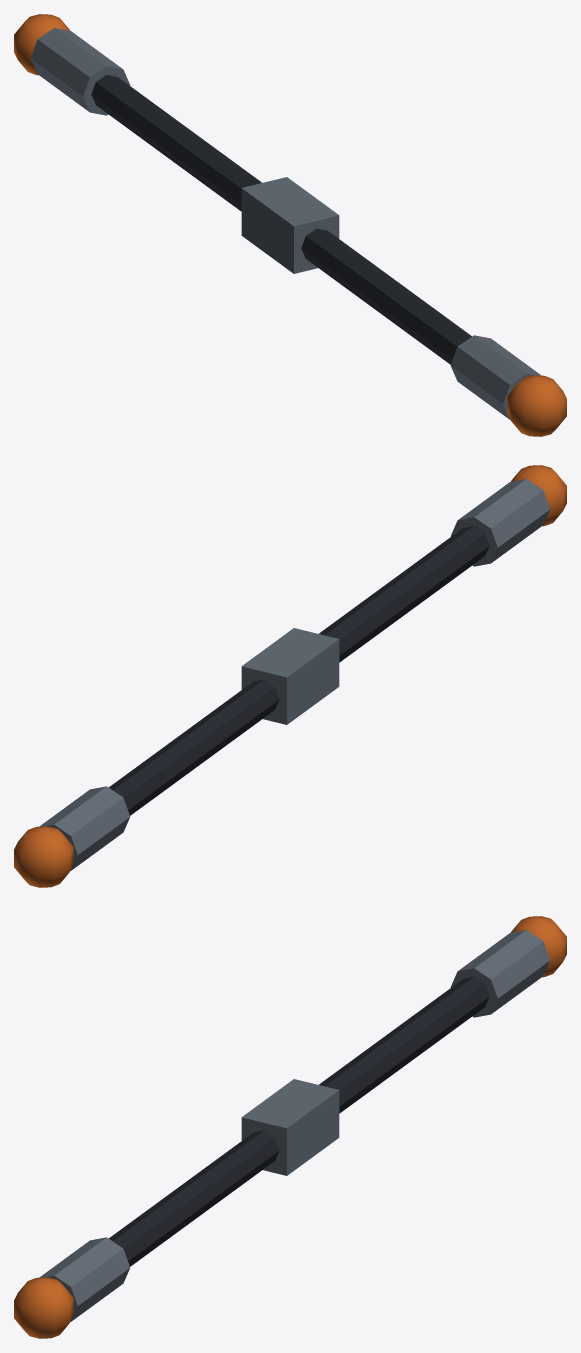
The model's file is electrostaff.glb.
The picture shows the model from 3 angles, top to bottom: view 1: azimuth 30°, elevation 25°; view 2: azimuth 150°, elevation 25°; view 3: azimuth 330°, elevation 25°; orthographic projection.
Visible parts, largest first — view 1: electrostaff; view 2: electrostaff; view 3: electrostaff.
Boxes of the visible parts, x1=… form: electrostaff: x1=14, y1=14, x2=566, y2=436; electrostaff: x1=14, y1=465, x2=566, y2=887; electrostaff: x1=14, y1=916, x2=566, y2=1338.
Size of the model in its own units: 0.057 by 0.06 by 0.9943.
